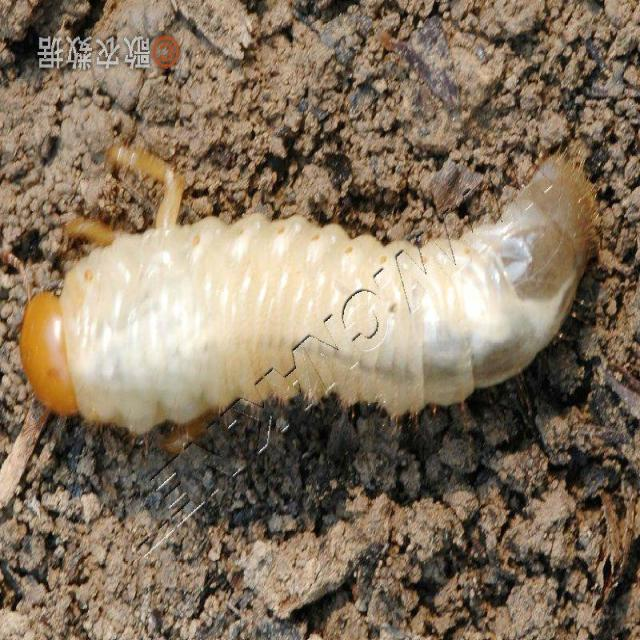grub: (12, 148, 609, 450)
